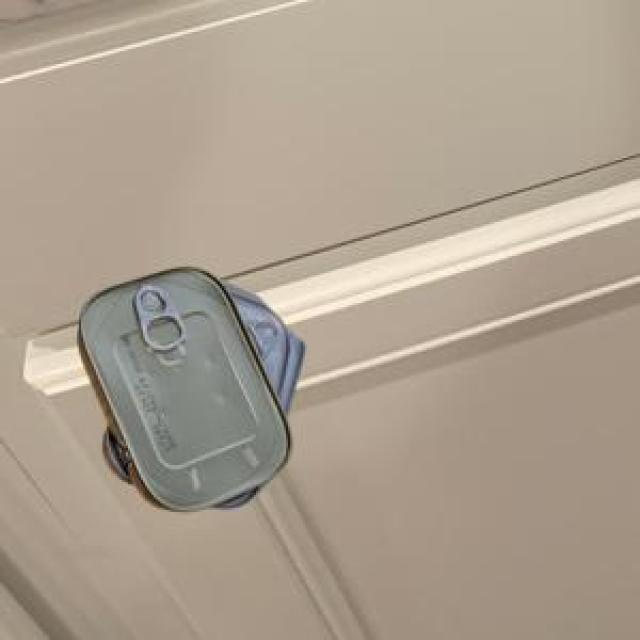Can: (76, 263, 302, 509)
